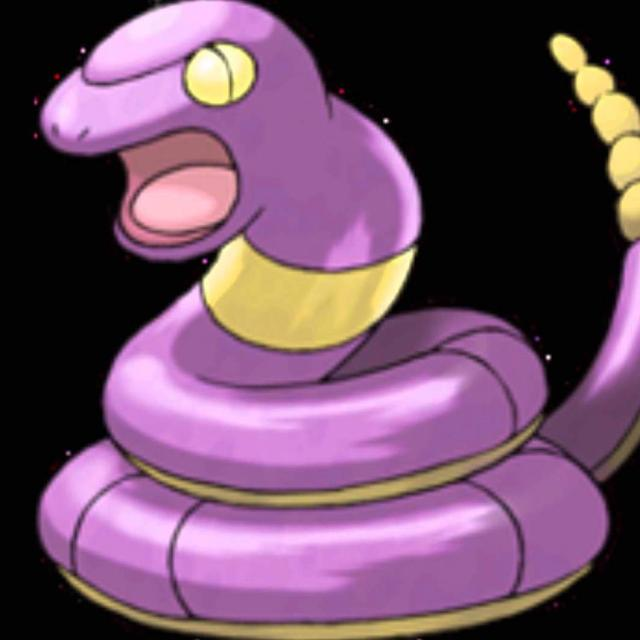Ekans: (25, 0, 640, 631)
